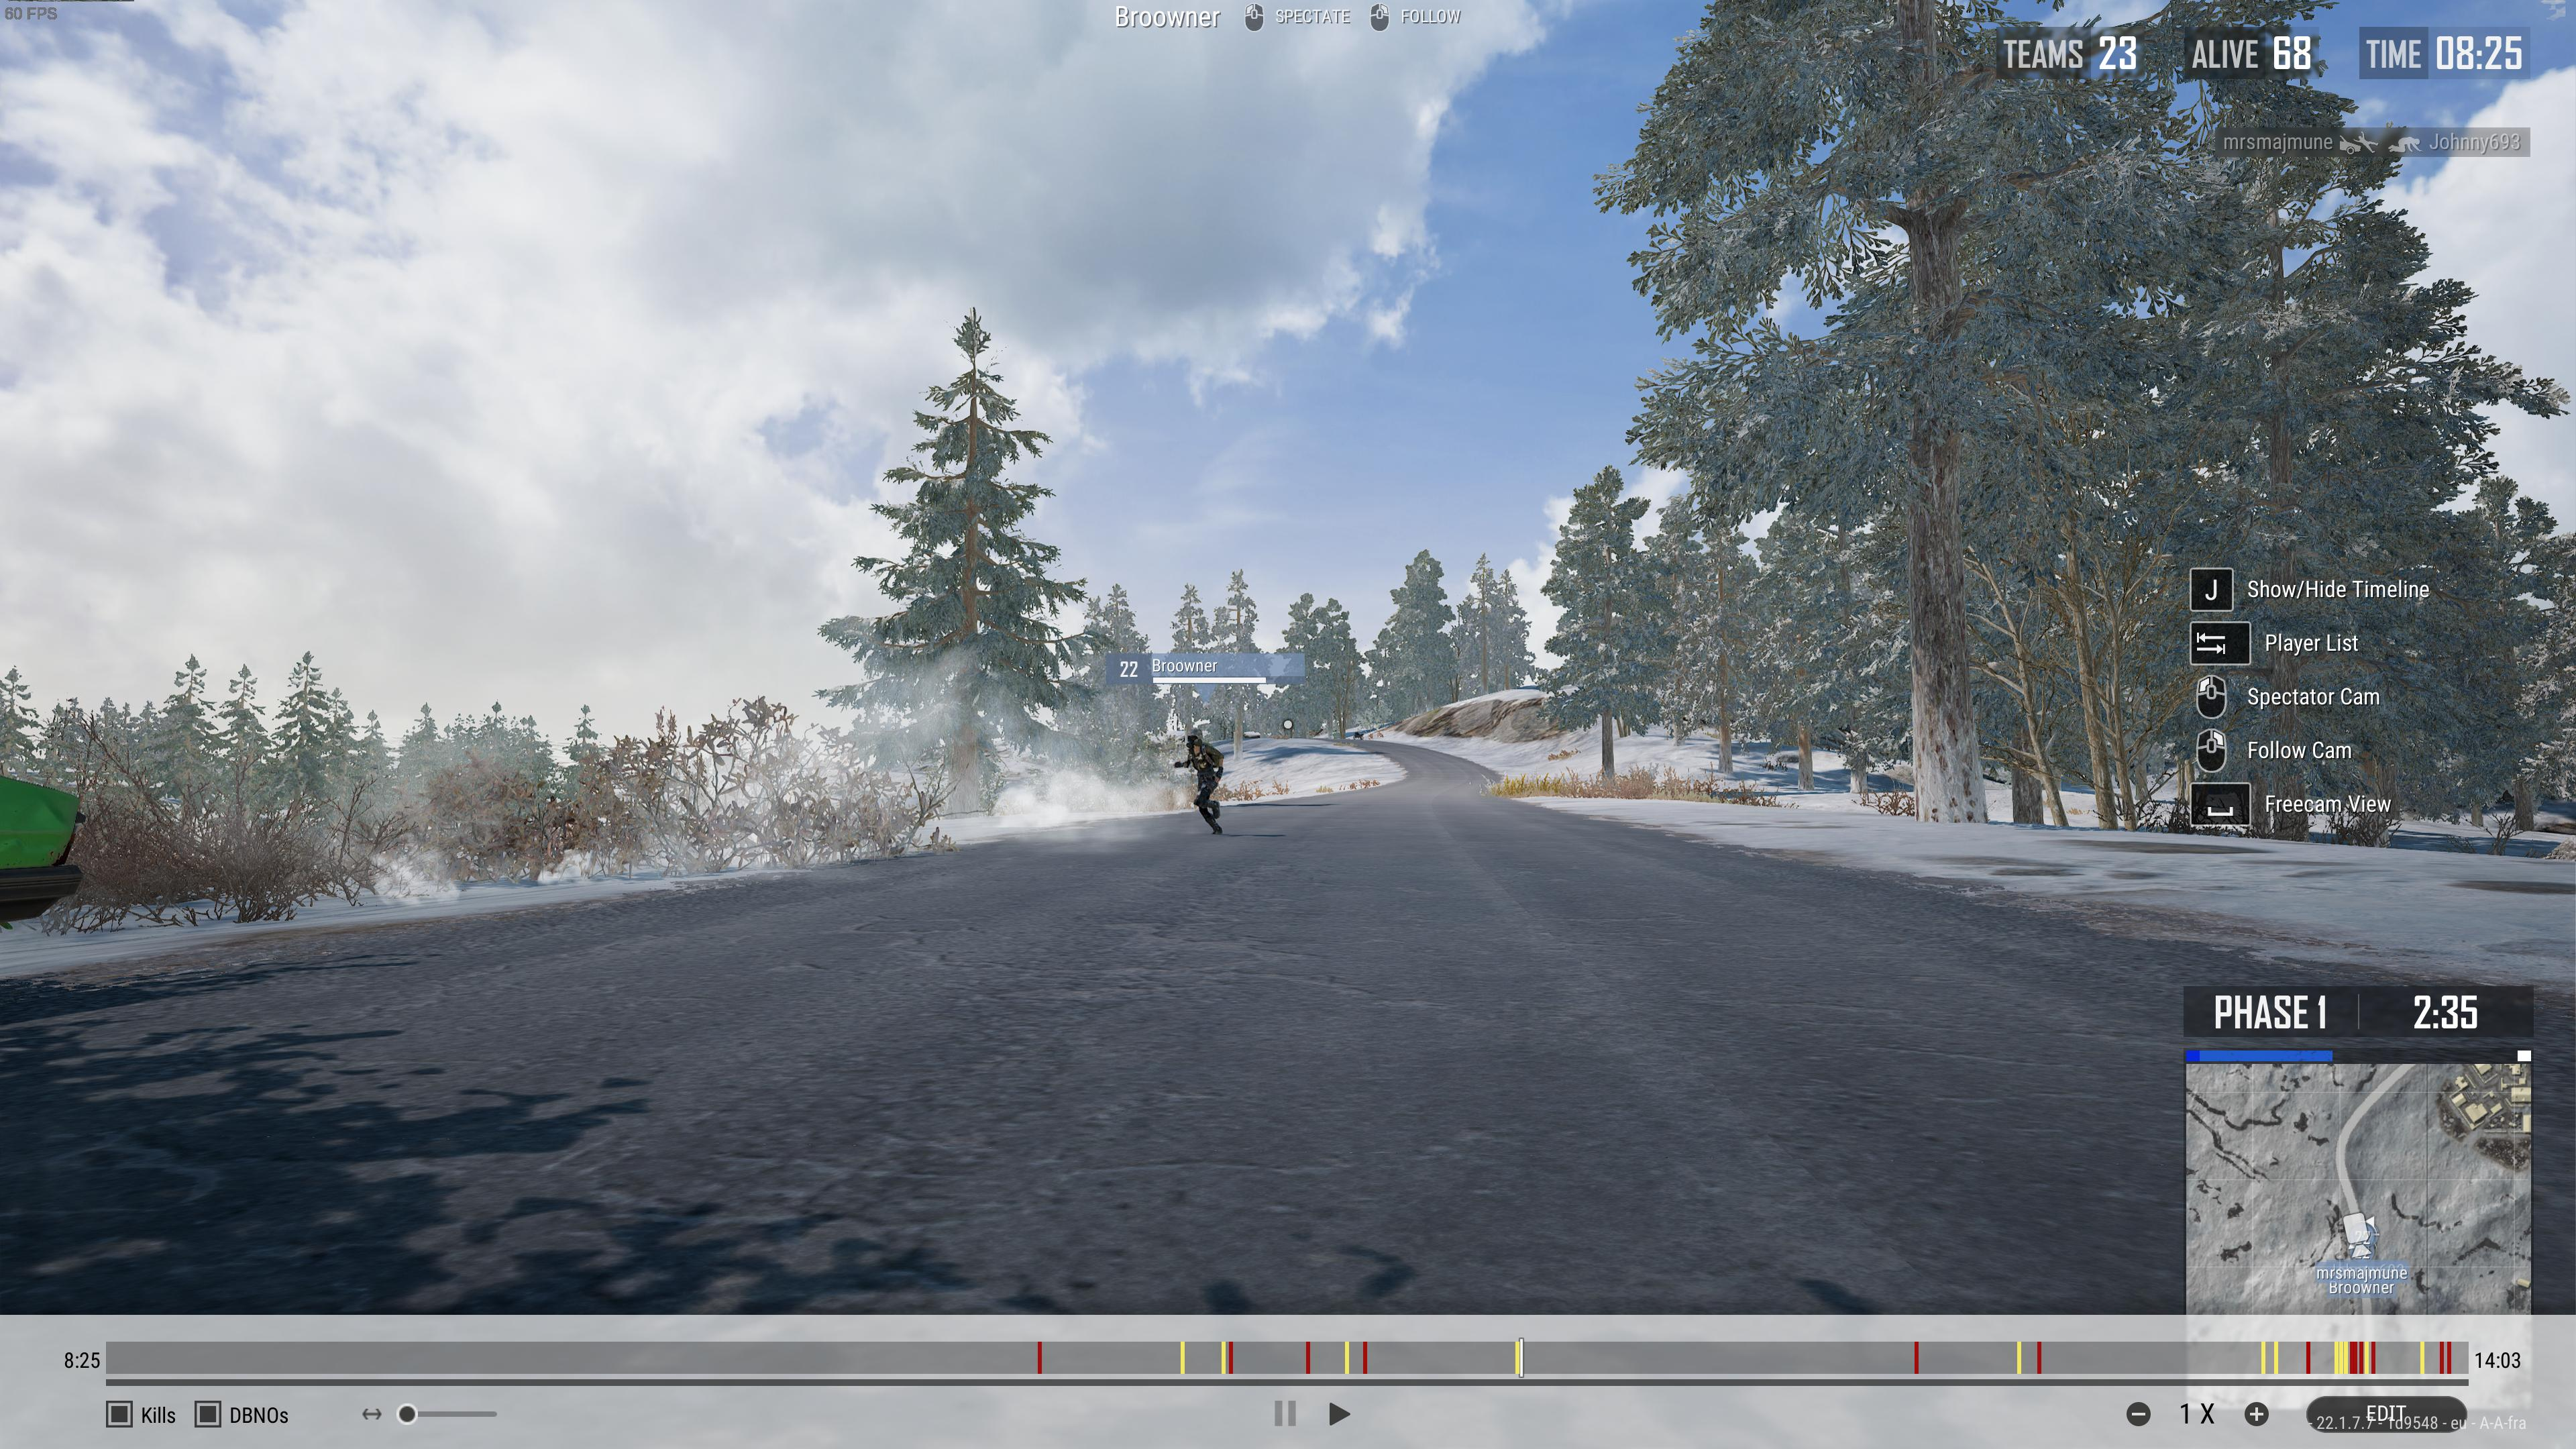enemy: (1173, 727, 1224, 833), (1185, 727, 1201, 747)
